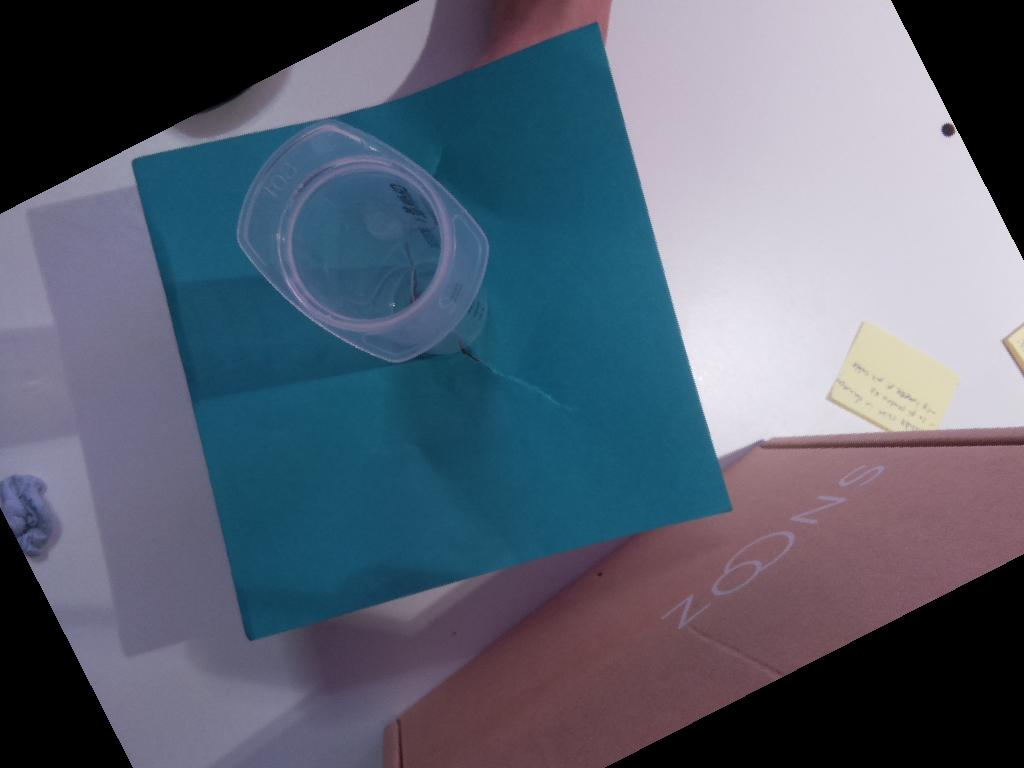clean: (236, 118, 491, 367)
